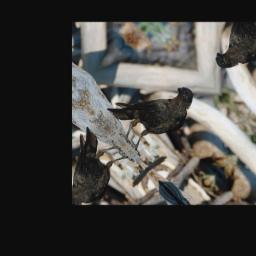Crow: (99, 59, 207, 162)
